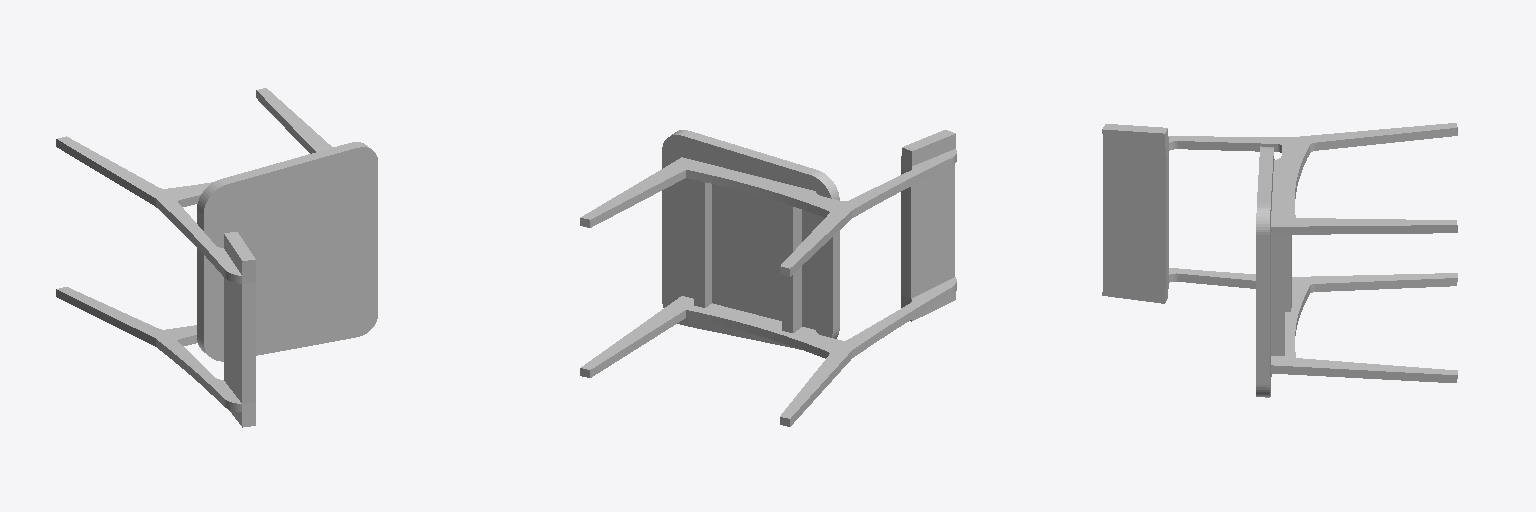
File: wooden_chair_obj.obj
The picture shows the model from 3 angles: view 1: azimuth 30°, elevation 25°; view 2: azimuth 150°, elevation 25°; view 3: azimuth 270°, elevation 25°; orthographic projection.
Parts seen in each view (by area): view 1: object_1; view 2: object_1; view 3: object_1.
Part boxes in pixels (bbox=[...]): object_1: bbox=[56, 88, 377, 427]; object_1: bbox=[580, 130, 956, 426]; object_1: bbox=[1102, 123, 1457, 397].
Bounding box in the file's own units: 1.77 × 1.44 × 2.45.